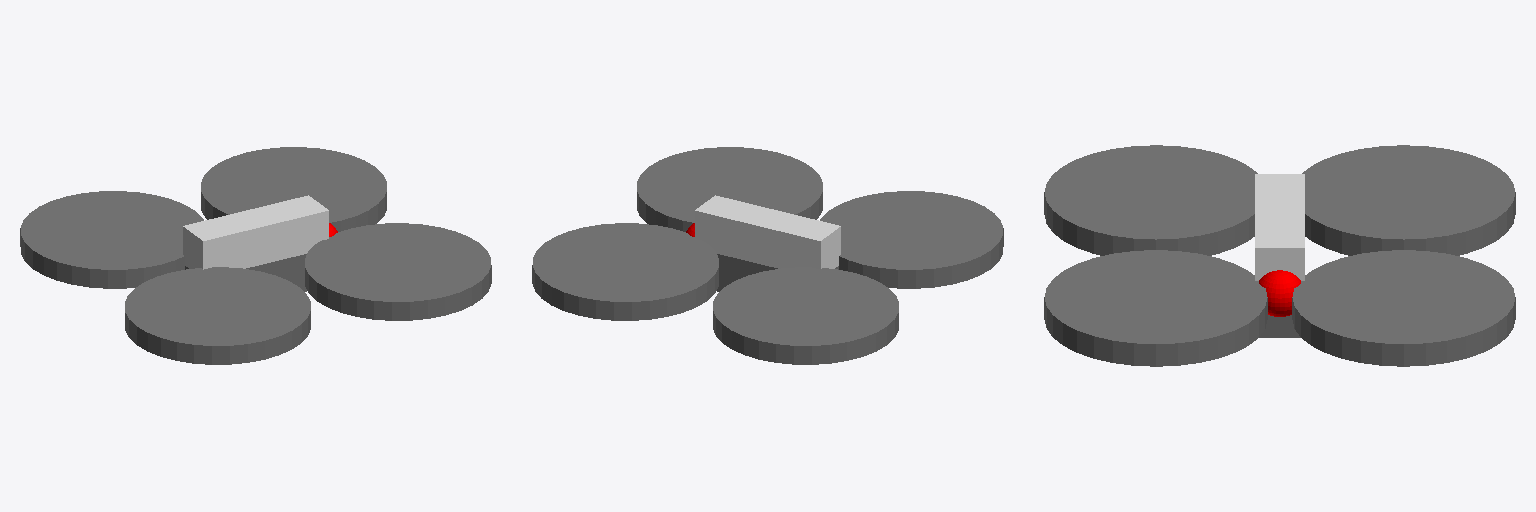
URDF robot description (tello_6):
<?xml version="1.0"?>

<!-- Body coordinates are: x forward, y left, z up; rotation is: roll right, pitch forward, yaw left -->
<!-- See http://www.ros.org/reps/rep-0103.html -->

<robot name="tello_6">
    <origin xyz="4 0 0" rpy="0 0 3.14" />
    <!-- 4 -3 0 0 0 1.57 for a regular initialization -->
    <!-- Materials -->
    <material name="gray">
        <color rgba="0.5 0.5 0.5 1.0"/>
    </material>
    <material name="white">
        <color rgba="0.9 0.9 0.9 1.0"/>
    </material>
    <material name="red">
        <color rgba="1.0 0 0 1.0"/>
    </material>
    <!-- TODO add Gazebo color information -->

    <!-- Base link -->
    <link name="base_link_6">
        <visual>
            <origin xyz="0 0 0.01"/>
            <geometry>
                <box size="0.07 0.02 0.02"/>
            </geometry>
            <material name="white"/>
        </visual>
        <visual>
            <origin xyz="0 0 -0.01"/>
            <geometry>
                <box size="0.07 0.02 0.02"/>
            </geometry>
            <material name="gray"/>
        </visual>
        <visual>
            <origin xyz="0.05 -0.05 0"/>
            <geometry>
                <cylinder length="0.01" radius="0.045"/>
            </geometry>
            <material name="gray"/>
        </visual>
        <visual>
            <origin xyz="-0.05 0.05 0"/>
            <geometry>
                <cylinder length="0.01" radius="0.045"/>
            </geometry>
            <material name="gray"/>
        </visual>
        <visual>
            <origin xyz="-0.05 -0.05 0"/>
            <geometry>
                <cylinder length="0.01" radius="0.045"/>
            </geometry>
            <material name="gray"/>
        </visual>
        <visual>
            <origin xyz="0.05 0.05 0"/>
            <geometry>
                <cylinder length="0.01" radius="0.045"/>
            </geometry>
            <material name="gray"/>
        </visual>
        <inertial>
            <mass value="0.1"/>
            <!-- Tensor for solid cuboid 18cm x 18cm x 5cm high -->
            <inertia ixx="0.000290833" ixy="0" ixz="0" iyy="0.00054" iyz="0" izz="0.000290833"/>
        </inertial>
        <collision name="collision">
            <geometry>
                <box size="0.18 0.18 0.05"/>
            </geometry>
        </collision>
    </link>

    <!-- Camera link -->
    <link name="camera_link_6">
        <visual>
            <origin xyz="0 0 0"/>
            <geometry>
                <sphere radius="0.01"/>
            </geometry>
            <material name="red"/>
        </visual>
        <collision>
            <geometry>
                <sphere radius="0.01"/>
            </geometry>
        </collision>
        <inertial>
            <mass value="1e-5"/>
            <inertia ixx="1e-6" ixy="0" ixz="0" iyy="1e-6" iyz="0" izz="1e-6"/>
        </inertial>
    </link>

    <!-- Fixed joint -->
    <joint name="camera_joint_6" type="fixed">
        <origin xyz="0.035 0 0" rpy="0 0 0"/>  <!-- TODO fix origin -->
        <parent link="base_link_6"/>
        <child link="camera_link_6"/>
    </joint>

    <!-- Tello plugin for Gazebo -->
    <gazebo>
        <plugin name="TelloPlugin" filename="libTelloPlugin.so">
            <namespace>drone6</namespace>
            <parameter name="use_sim_time" type="bool">1</parameter>
            <link_name>base_link_6</link_name>
            <center_of_mass>0 0 0</center_of_mass>
        </plugin>
    </gazebo>

    <!-- Camera plugin for Gazebo -->
    <!-- TODO use Tello camera specs -->
    <!-- TODO add another joint and rotate the camera into place -->
    <gazebo reference="camera_link_6">
        <sensor type="camera" name="drone6">
            <update_rate>30.0</update_rate>
            <camera name="head">  <!-- TODO does this name do anything? -->
                <horizontal_fov>0.96</horizontal_fov>
                <image>
                    <width>960</width>
                    <height>720</height>
                    <format>R8G8B8</format>
                </image>
                <clip>
                    <near>0.1</near>
                    <far>300</far>
                </clip>
                <noise>
                    <type>gaussian</type>
                    <!-- Noise is sampled independently per pixel on each frame.
                         That pixel's noise value is added to each of its color
                         channels, which at that point lie in the range [0,1]. -->
                    <mean>0.0</mean>
                    <stddev>0.007</stddev>
                </noise>
            </camera>
            <plugin name="camera_controller_6" filename="libgazebo_ros_camera.so">
                <alwaysOn>true</alwaysOn>
                <updateRate>0.0</updateRate>
                <cameraName>this_is_ignored</cameraName>
                <imageTopicName>image_raw</imageTopicName>
                <cameraInfoTopicName>camera_info</cameraInfoTopicName>
                <frameName>camera_link_6</frameName>
                <hackBaseline>0.07</hackBaseline>
                <distortionK1>0.0</distortionK1>
                <distortionK2>0.0</distortionK2>
                <distortionK3>0.0</distortionK3>
                <distortionT1>0.0</distortionT1>
                <distortionT2>0.0</distortionT2>
            </plugin>
        </sensor>
    </gazebo>

</robot>

--- Render facts (derived) ---
3 views of the same robot in one strip: view 1: azimuth 30°, elevation 25°; view 2: azimuth 150°, elevation 25°; view 3: azimuth 270°, elevation 25° (orthographic).
Robot: tello_6 — 2 links, 1 joints (1 fixed); root link base_link_6; default pose: all joints at 0.
Links seen in each view (by area): view 1: base_link_6; view 2: base_link_6; view 3: base_link_6, camera_link_6.
Boxes of the visible links, x1,y1,x2,y2 form: base_link_6: (20,147,491,364); base_link_6: (532,147,1003,364); base_link_6: (1044,145,1515,366); camera_link_6: (1259,270,1300,316).
Bounding box of the posed robot: 0.19 × 0.19 × 0.04 m (x, y, z).
Geometry: primitives only (box / cylinder / sphere), no mesh files.